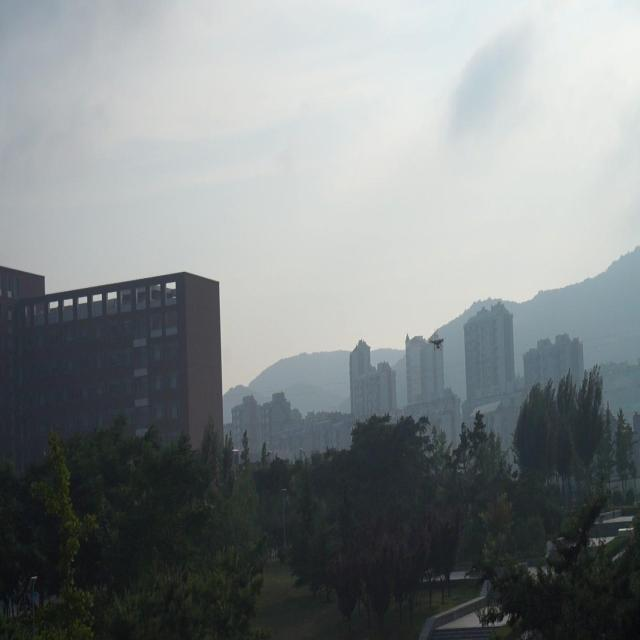drone: (428, 334, 446, 354)
